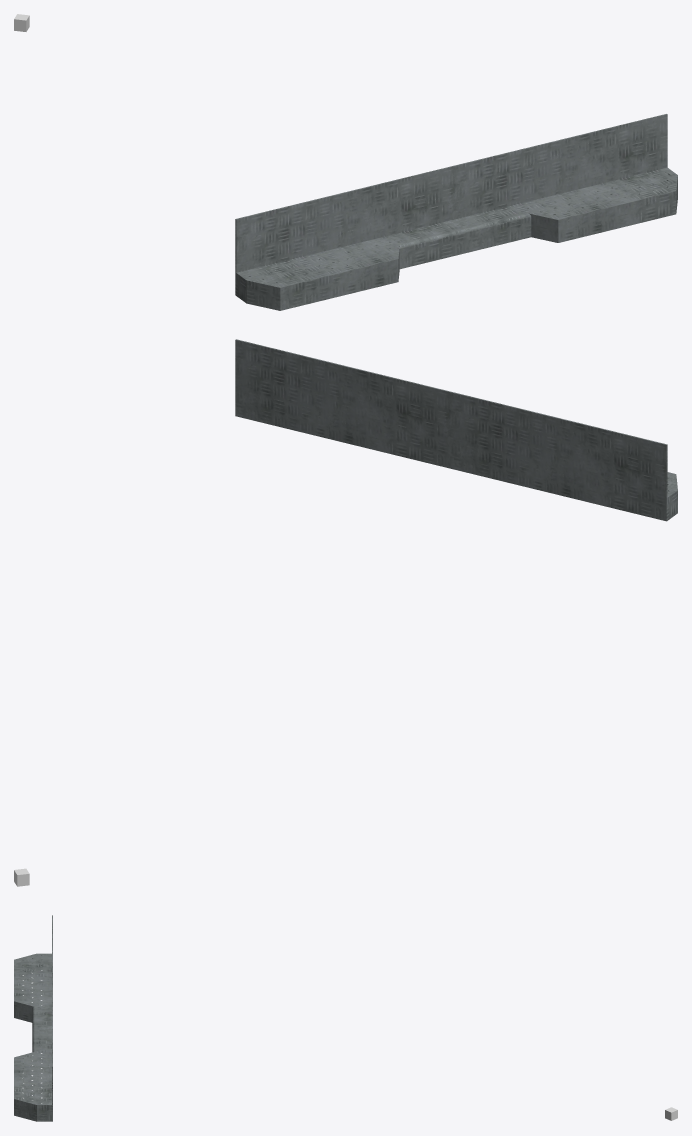
Rendered from RAM 2500HD CC 696j Hitch Recess Bumper.glb.
3 renders of one model, top to bottom at view 1: azimuth 30°, elevation 25°; view 2: azimuth 150°, elevation 25°; view 3: azimuth 270°, elevation 25°, orthographic. The views are drawn at different scales.
Visible parts, largest first — view 1: Geom3D; view 2: Geom3D; view 3: Geom3D.
Part boxes in pixels (box(x1,y1,x2,y2)): Geom3D: box(235, 114, 677, 310); Geom3D: box(235, 339, 677, 521); Geom3D: box(14, 915, 52, 1121).
Bounding box in the file's own units: 1.98 × 0.7756 × 3.67.
Materials: 2 (1 with a texture image).
